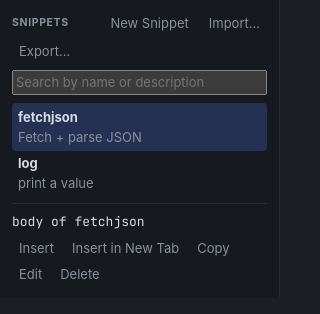
snippets panel (spec §13.1) › the first row previews by default, and clicking another row moves the selection to it
The image size is (320, 314).
Step 1. Click the option "log print a value" → click(56, 173), box x1=18 y1=155 x2=94 y2=191
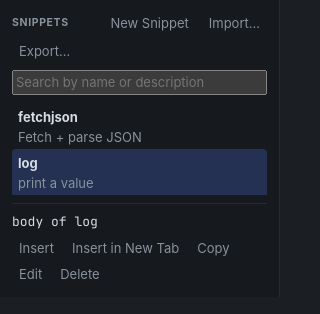
Now the text with class "snippets-preview" reads "body of log", box x1=12 y1=213 x2=98 y2=230
